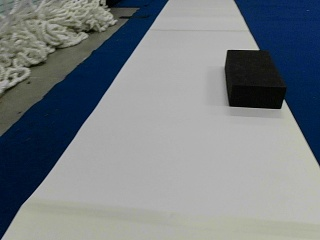block: (224, 48, 285, 108)
